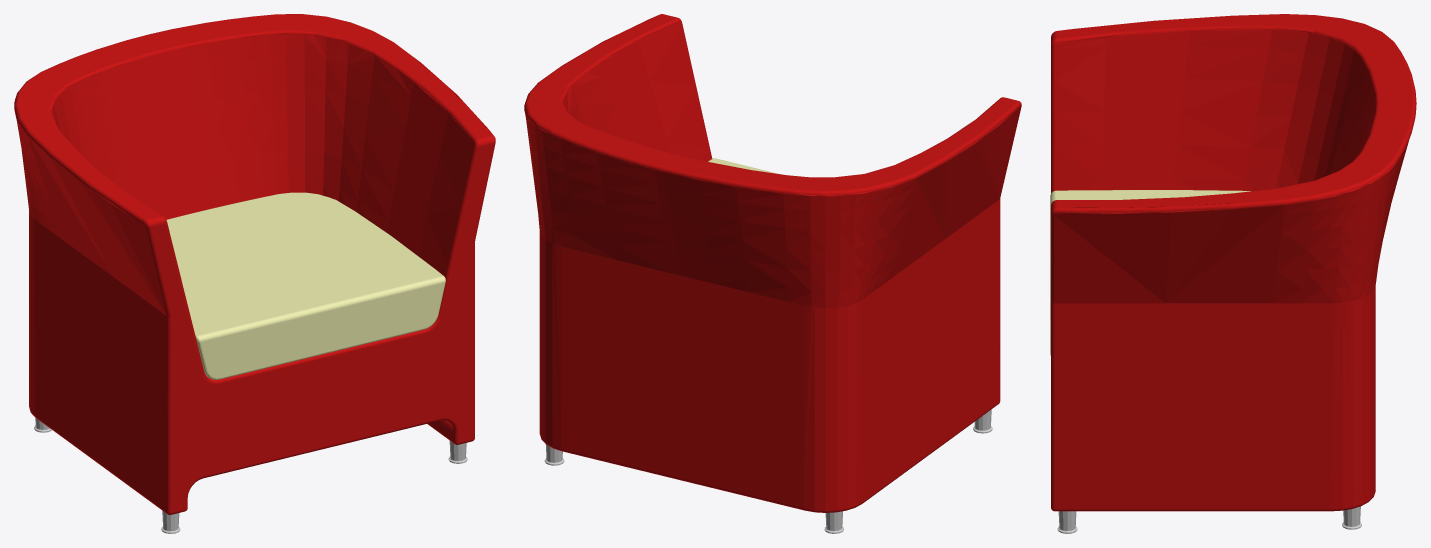
Rendered from Chair3.fbx.
3 renders of one model, left to right at view 1: azimuth 30°, elevation 25°; view 2: azimuth 150°, elevation 25°; view 3: azimuth 270°, elevation 25°, orthographic. The views are drawn at different scales.
Visible parts, largest first — view 1: Surf1_001, Surf0_001, Surf6_001; view 2: Surf1_001, Surf0_001; view 3: Surf0_001, Surf1_001, Surf6_001.
Part boxes in pixels (x1,y1,x2,y2): Surf1_001: [14, 34, 322, 514]; Surf0_001: [150, 14, 495, 449]; Surf6_001: [166, 192, 445, 379]; Surf1_001: [662, 97, 1021, 512]; Surf0_001: [524, 14, 712, 480]; Surf0_001: [1051, 99, 1416, 511]; Surf1_001: [1051, 14, 1416, 193]; Surf6_001: [1050, 190, 1250, 355].
Size of the model in its own units: 32.16 by 28.05 by 26.1.
